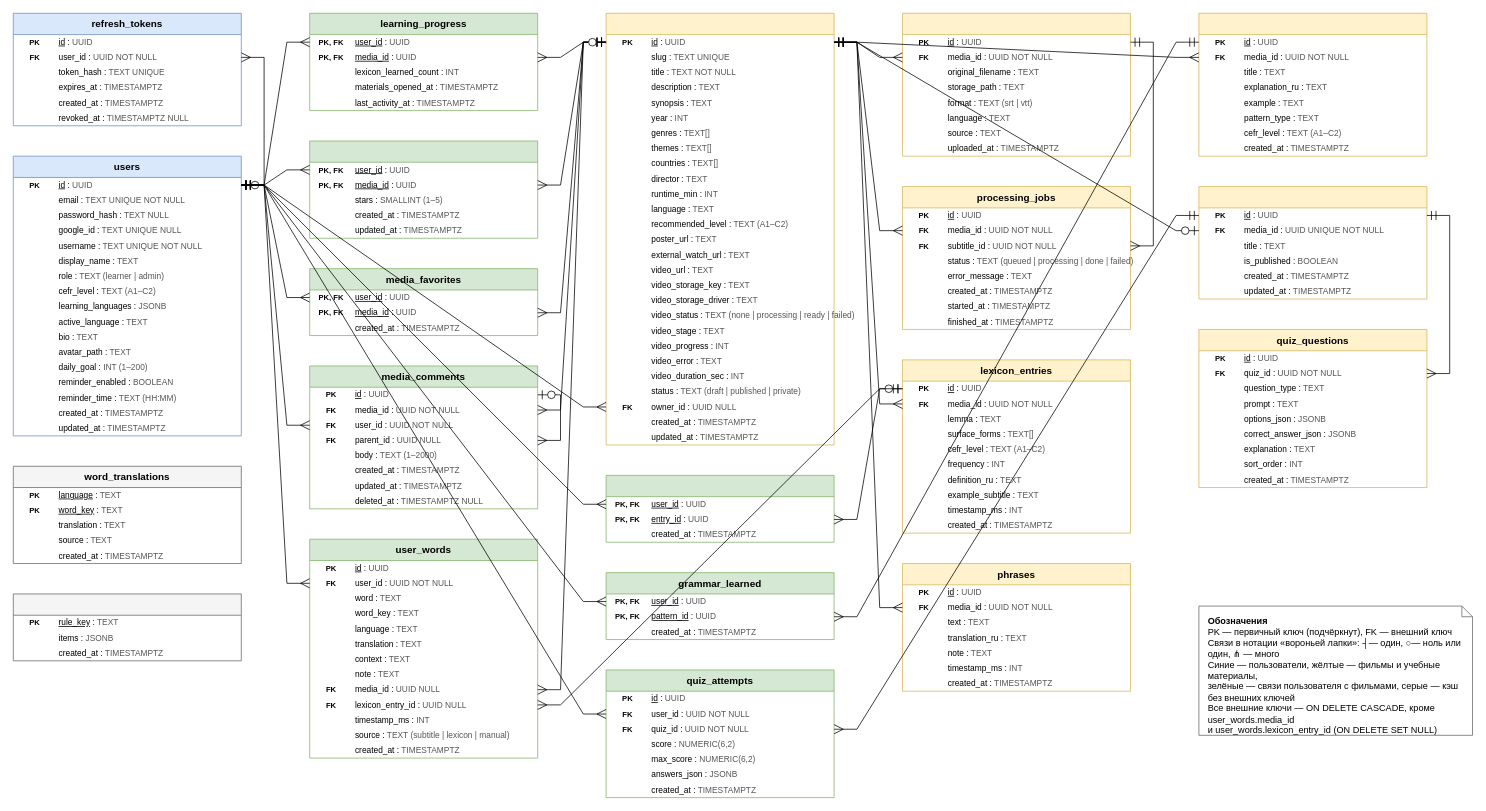
The diagram is 1486 pixels wide and 811 high, and some of its shapes have lost their labels. The shapes that lost their labels are listed below. From the top down, each one's box as (x1, y1, x2, y2) in pixels, then its label:
(902, 13, 1130, 156): subtitles
(1198, 13, 1427, 156): grammar_patterns
(309, 140, 538, 238): media_ratings
(605, 13, 834, 445): media_items
(1198, 186, 1427, 299): quizzes
(605, 475, 834, 542): lexicon_learned
(13, 593, 241, 661): grammar_exercises
